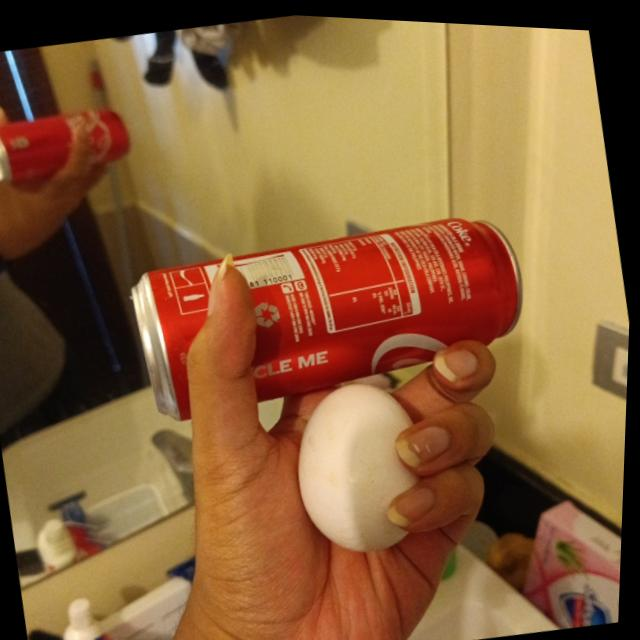coke: (122, 194, 543, 442)
egg: (284, 368, 438, 558)
